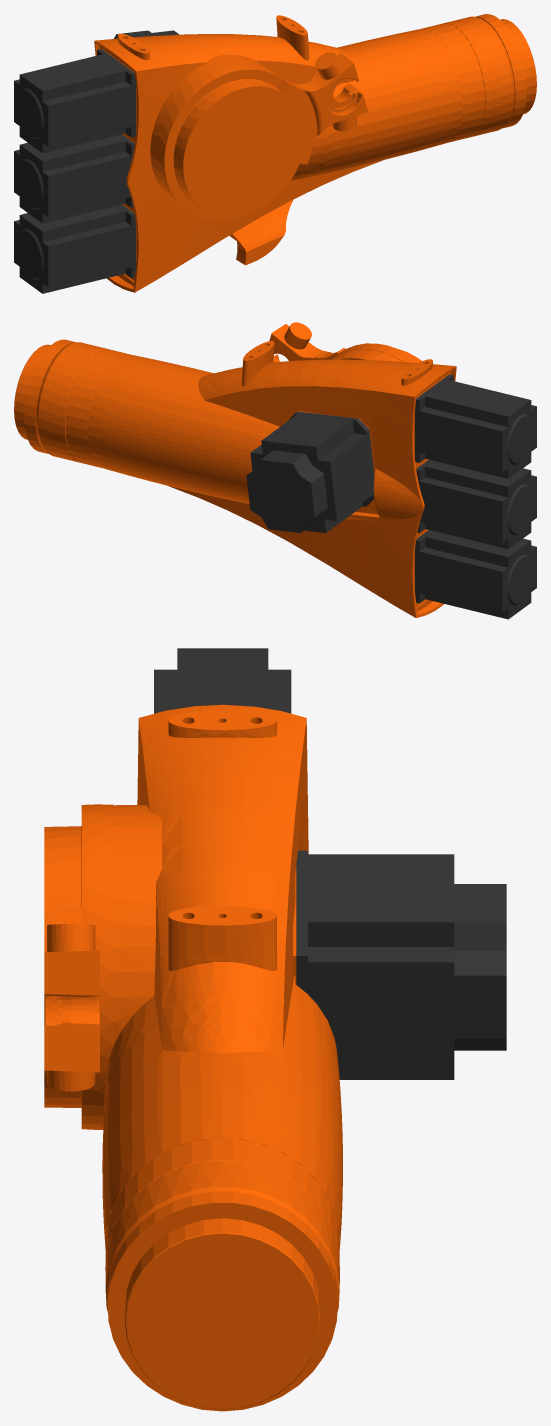
3 views of the same model, one above another, from view 1: azimuth 30°, elevation 25°; view 2: azimuth 150°, elevation 25°; view 3: azimuth 270°, elevation 25° (orthographic). The views are drawn at different scales.
Visible parts, largest first — view 1: node0, node3, node1, node4, node5; view 2: node0, node2, node3, node1, node4, node5; view 3: node0, node1, node2, node3.
Part boxes in pixels (bbox=[...]): node0: bbox=[94, 15, 462, 292]; node3: bbox=[14, 49, 135, 153]; node1: bbox=[421, 14, 536, 142]; node4: bbox=[14, 204, 135, 293]; node5: bbox=[14, 134, 134, 223]; node0: bbox=[88, 322, 456, 617]; node2: bbox=[246, 411, 374, 532]; node3: bbox=[415, 374, 536, 478]; node1: bbox=[14, 339, 129, 467]; node4: bbox=[415, 530, 536, 619]; node5: bbox=[416, 459, 536, 549]; node0: bbox=[44, 704, 342, 1248]; node1: bbox=[105, 1138, 339, 1411]; node2: bbox=[296, 850, 506, 1079]; node3: bbox=[154, 648, 291, 713].
Size of the model in its own units: 1.15 by 0.477 by 0.5335.
